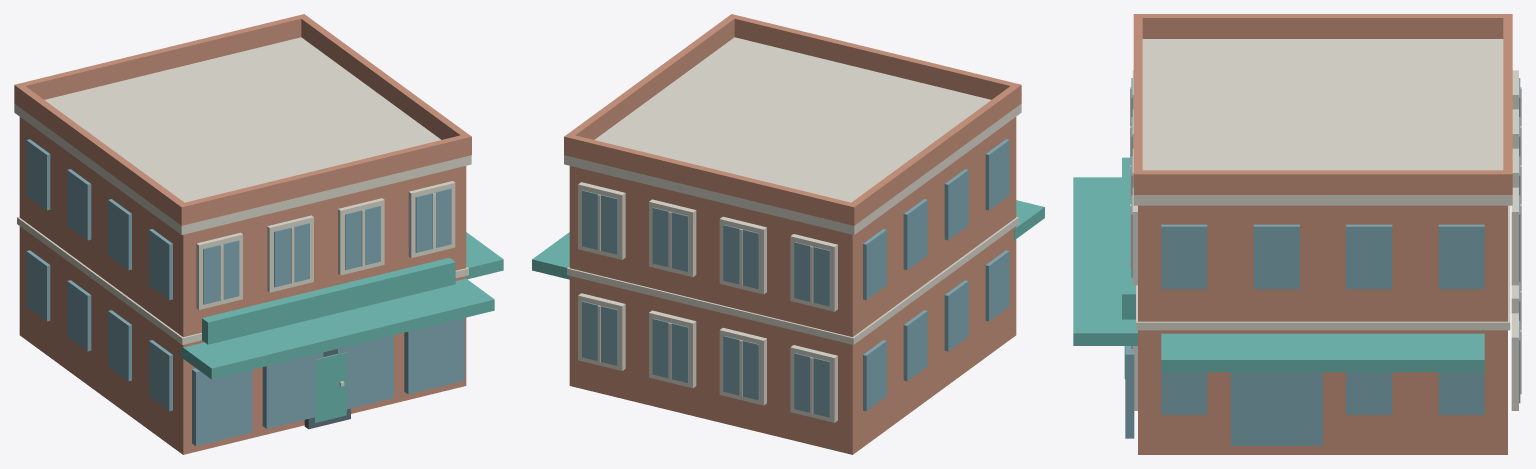
Rendered from predio_cafe.glb.
3 views of the same model, side by side, from view 1: azimuth 30°, elevation 25°; view 2: azimuth 150°, elevation 25°; view 3: azimuth 270°, elevation 25° (orthographic). The views are drawn at different scales.
Parts seen in each view (by area): view 1: corner-cafe-brick, corner-cafe-concrete, corner-cafe-glass, corner-cafe-accent; view 2: corner-cafe-brick, corner-cafe-concrete, corner-cafe-glass, corner-cafe-accent; view 3: corner-cafe-brick, corner-cafe-concrete, corner-cafe-glass, corner-cafe-accent.
Boxes of the visible parts, x1=… form: corner-cafe-brick: x1=14, y1=14, x2=471, y2=454; corner-cafe-concrete: x1=14, y1=37, x2=471, y2=386; corner-cafe-glass: x1=26, y1=139, x2=464, y2=446; corner-cafe-accent: x1=181, y1=232, x2=503, y2=422; corner-cafe-brick: x1=564, y1=14, x2=1021, y2=454; corner-cafe-concrete: x1=564, y1=37, x2=1021, y2=422; corner-cafe-glass: x1=582, y1=139, x2=1009, y2=417; corner-cafe-accent: x1=532, y1=200, x2=1044, y2=279; corner-cafe-brick: x1=1133, y1=14, x2=1512, y2=454; corner-cafe-concrete: x1=1130, y1=39, x2=1521, y2=410; corner-cafe-glass: x1=1125, y1=78, x2=1520, y2=445; corner-cafe-accent: x1=1073, y1=157, x2=1484, y2=378.
Bounding box in the file's own units: 9.45 × 6.75 × 9.7.
